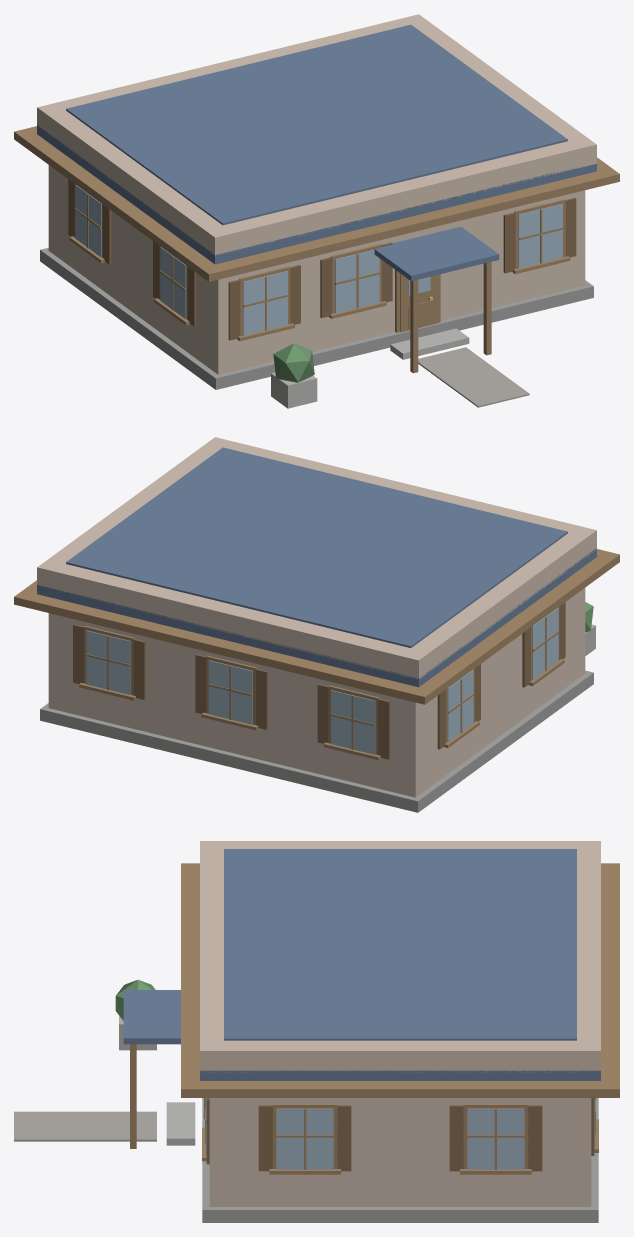
Rendered from Villa_08.glb.
The picture shows the model from 3 angles, top to bottom: view 1: azimuth 30°, elevation 25°; view 2: azimuth 150°, elevation 25°; view 3: azimuth 270°, elevation 25°; orthographic projection. The views are drawn at different scales.
Visible parts, largest first — view 1: Villa_08; view 2: Villa_08; view 3: Villa_08.
Boxes of the visible parts, bbox=[...] form: Villa_08: bbox=[14, 14, 619, 408]; Villa_08: bbox=[14, 437, 619, 812]; Villa_08: bbox=[14, 841, 619, 1222].
Bounding box in the file's own units: 11.2 × 4.05 × 12.7.
